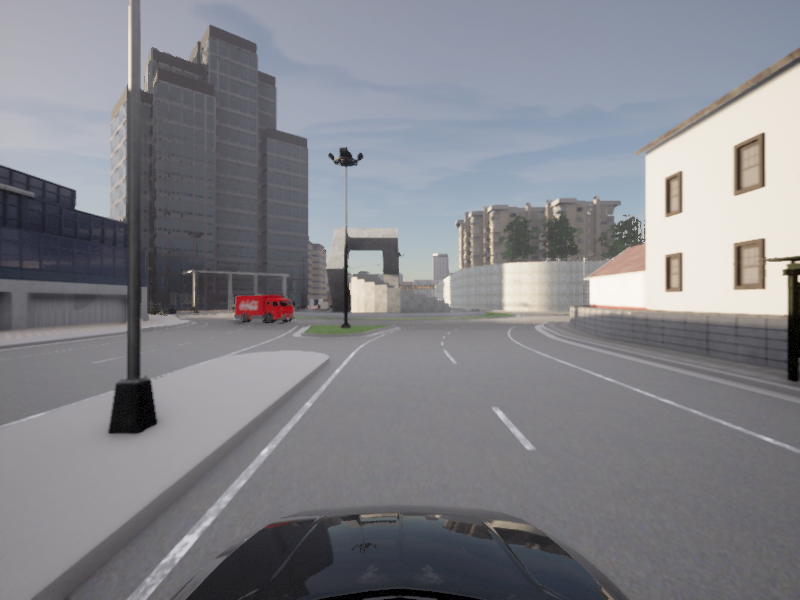vehicle: (232, 294, 299, 325), (232, 304, 245, 319)
